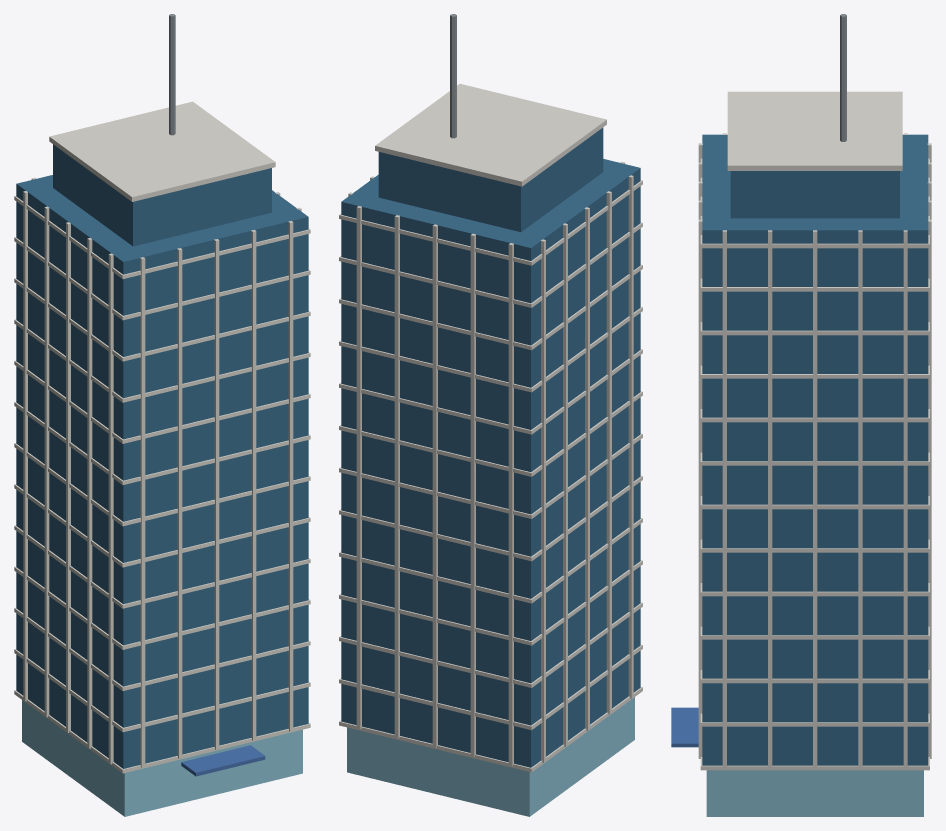
The model's file is tower_0.glb.
3 views of the same model, side by side, from view 1: azimuth 30°, elevation 25°; view 2: azimuth 150°, elevation 25°; view 3: azimuth 270°, elevation 25° (orthographic). The views are drawn at different scales.
Parts seen in each view (by area): view 1: Cube.001; view 2: Cube.001; view 3: Cube.001.
Boxes of the visible parts, x1,y1,x2,y2 form: Cube.001: (14,14,310,816); Cube.001: (339,14,642,816); Cube.001: (671,14,931,816).
Size of the model in its own units: 16.5 by 60 by 18.45.
